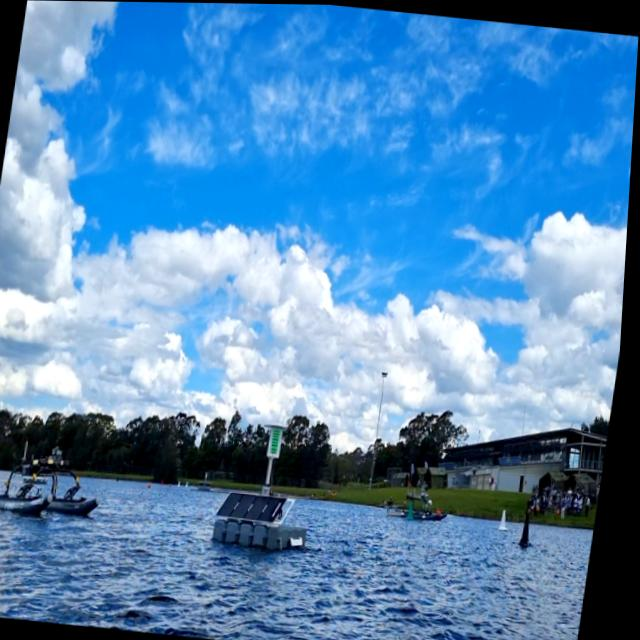led: (273, 426, 286, 455)
